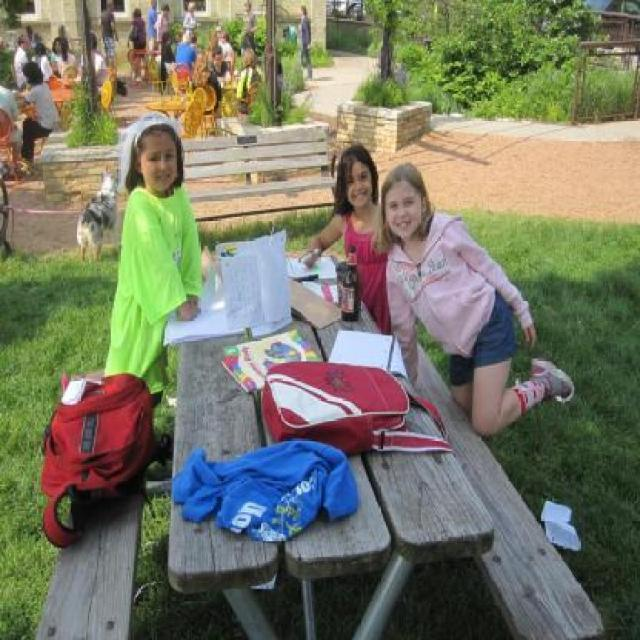backpack: (37, 371, 161, 551), (258, 358, 456, 462)
